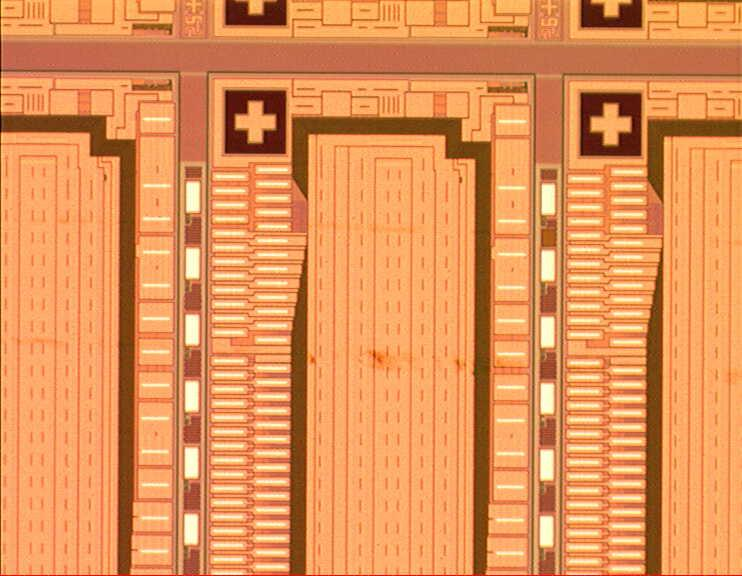SCRATCH: (1, 208, 742, 391)
